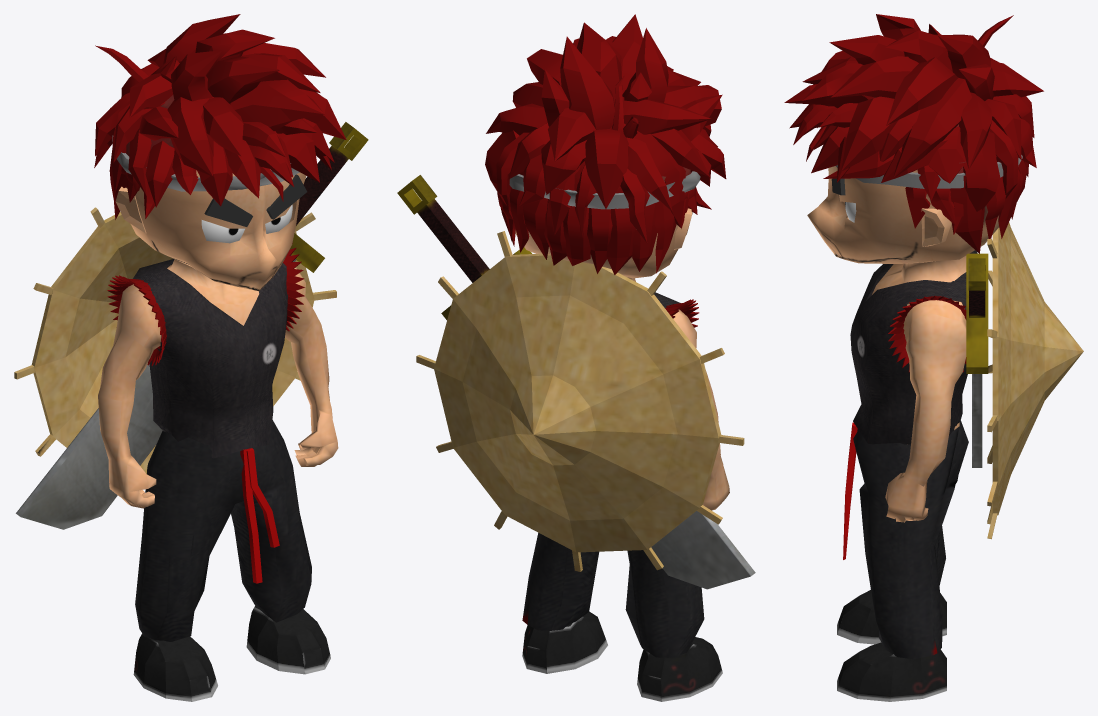
File: di-model-only.dae
The picture shows the model from 3 angles, left to right: view 1: azimuth 30°, elevation 25°; view 2: azimuth 150°, elevation 25°; view 3: azimuth 270°, elevation 25°; orthographic projection.
Visible parts, largest first — view 1: hair2, skin1, pants1, shirt, hat1, sword, shoeR, shoeL, shirtcloth1, strip1, shirtcloth2, strip2 (+4 smaller); view 2: hat1, hair2, pants1, sword, shoeR, shoeL, skin1, headstrip; view 3: hair2, skin1, pants1, hat1, shirt, shoeL, sword, shoeR, shirtcloth2, headstrip, strip2.
Boxes of the visible parts, x1,y1,x2,y2 form: hair2: (94,14,346,219); skin1: (98,95,338,508); pants1: (135,419,311,641); shirt: (133,259,287,458); hat1: (14,207,336,473); sword: (16,122,368,529); shoeR: (133,633,217,701); shoeL: (246,605,330,674); shirtcloth1: (107,275,166,365); strip1: (240,448,262,583); shirtcloth2: (283,243,304,331); strip2: (246,448,279,547); hat1: (416,231,744,571); hair2: (485,14,726,274); pants1: (522,533,704,657); sword: (397,175,755,589); shoeR: (637,637,722,701); shoeL: (522,611,607,673); skin1: (513,88,729,510); headstrip: (509,171,700,209); hair2: (784,14,1043,253); skin1: (807,97,999,522); pants1: (853,419,968,659); hat1: (987,222,1083,539); shirt: (850,250,977,444); shoeL: (837,642,946,701); sword: (966,253,988,467); shoeR: (837,590,946,644); shirtcloth2: (888,295,966,372); headstrip: (836,155,1022,188); strip2: (845,422,857,536).
Bounding box in the file's own units: 0.6182 × 0.4562 × 1.07.
Materials: 1 (1 with a texture image).
